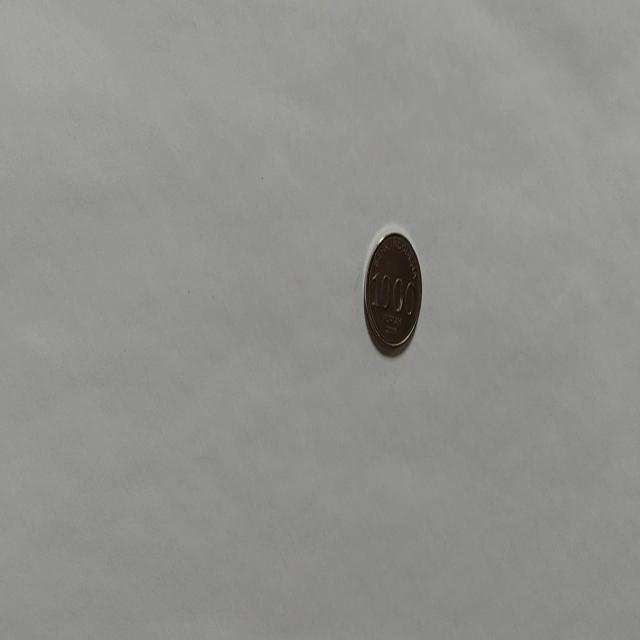seribu rupiah koin: (362, 228, 423, 356)
